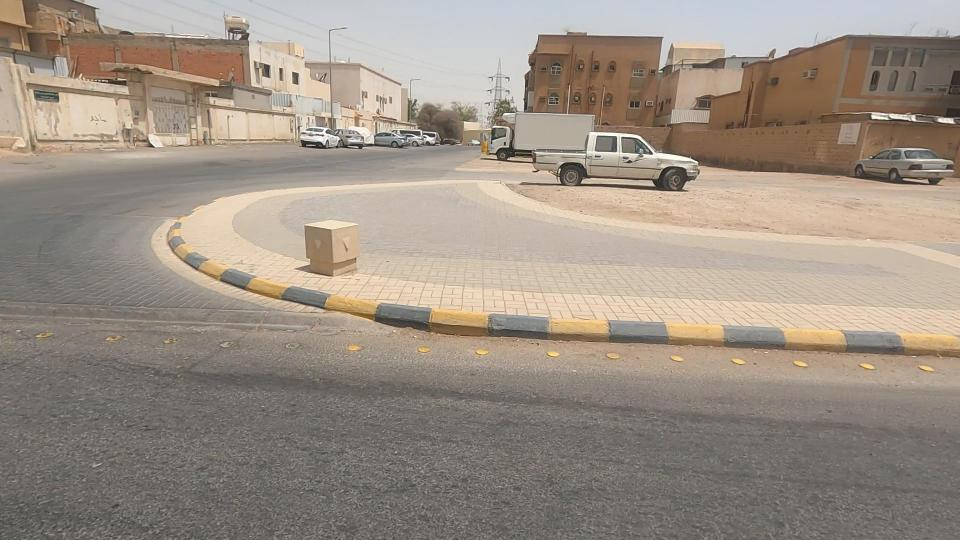GRAFFITI: (61, 102, 128, 133)
